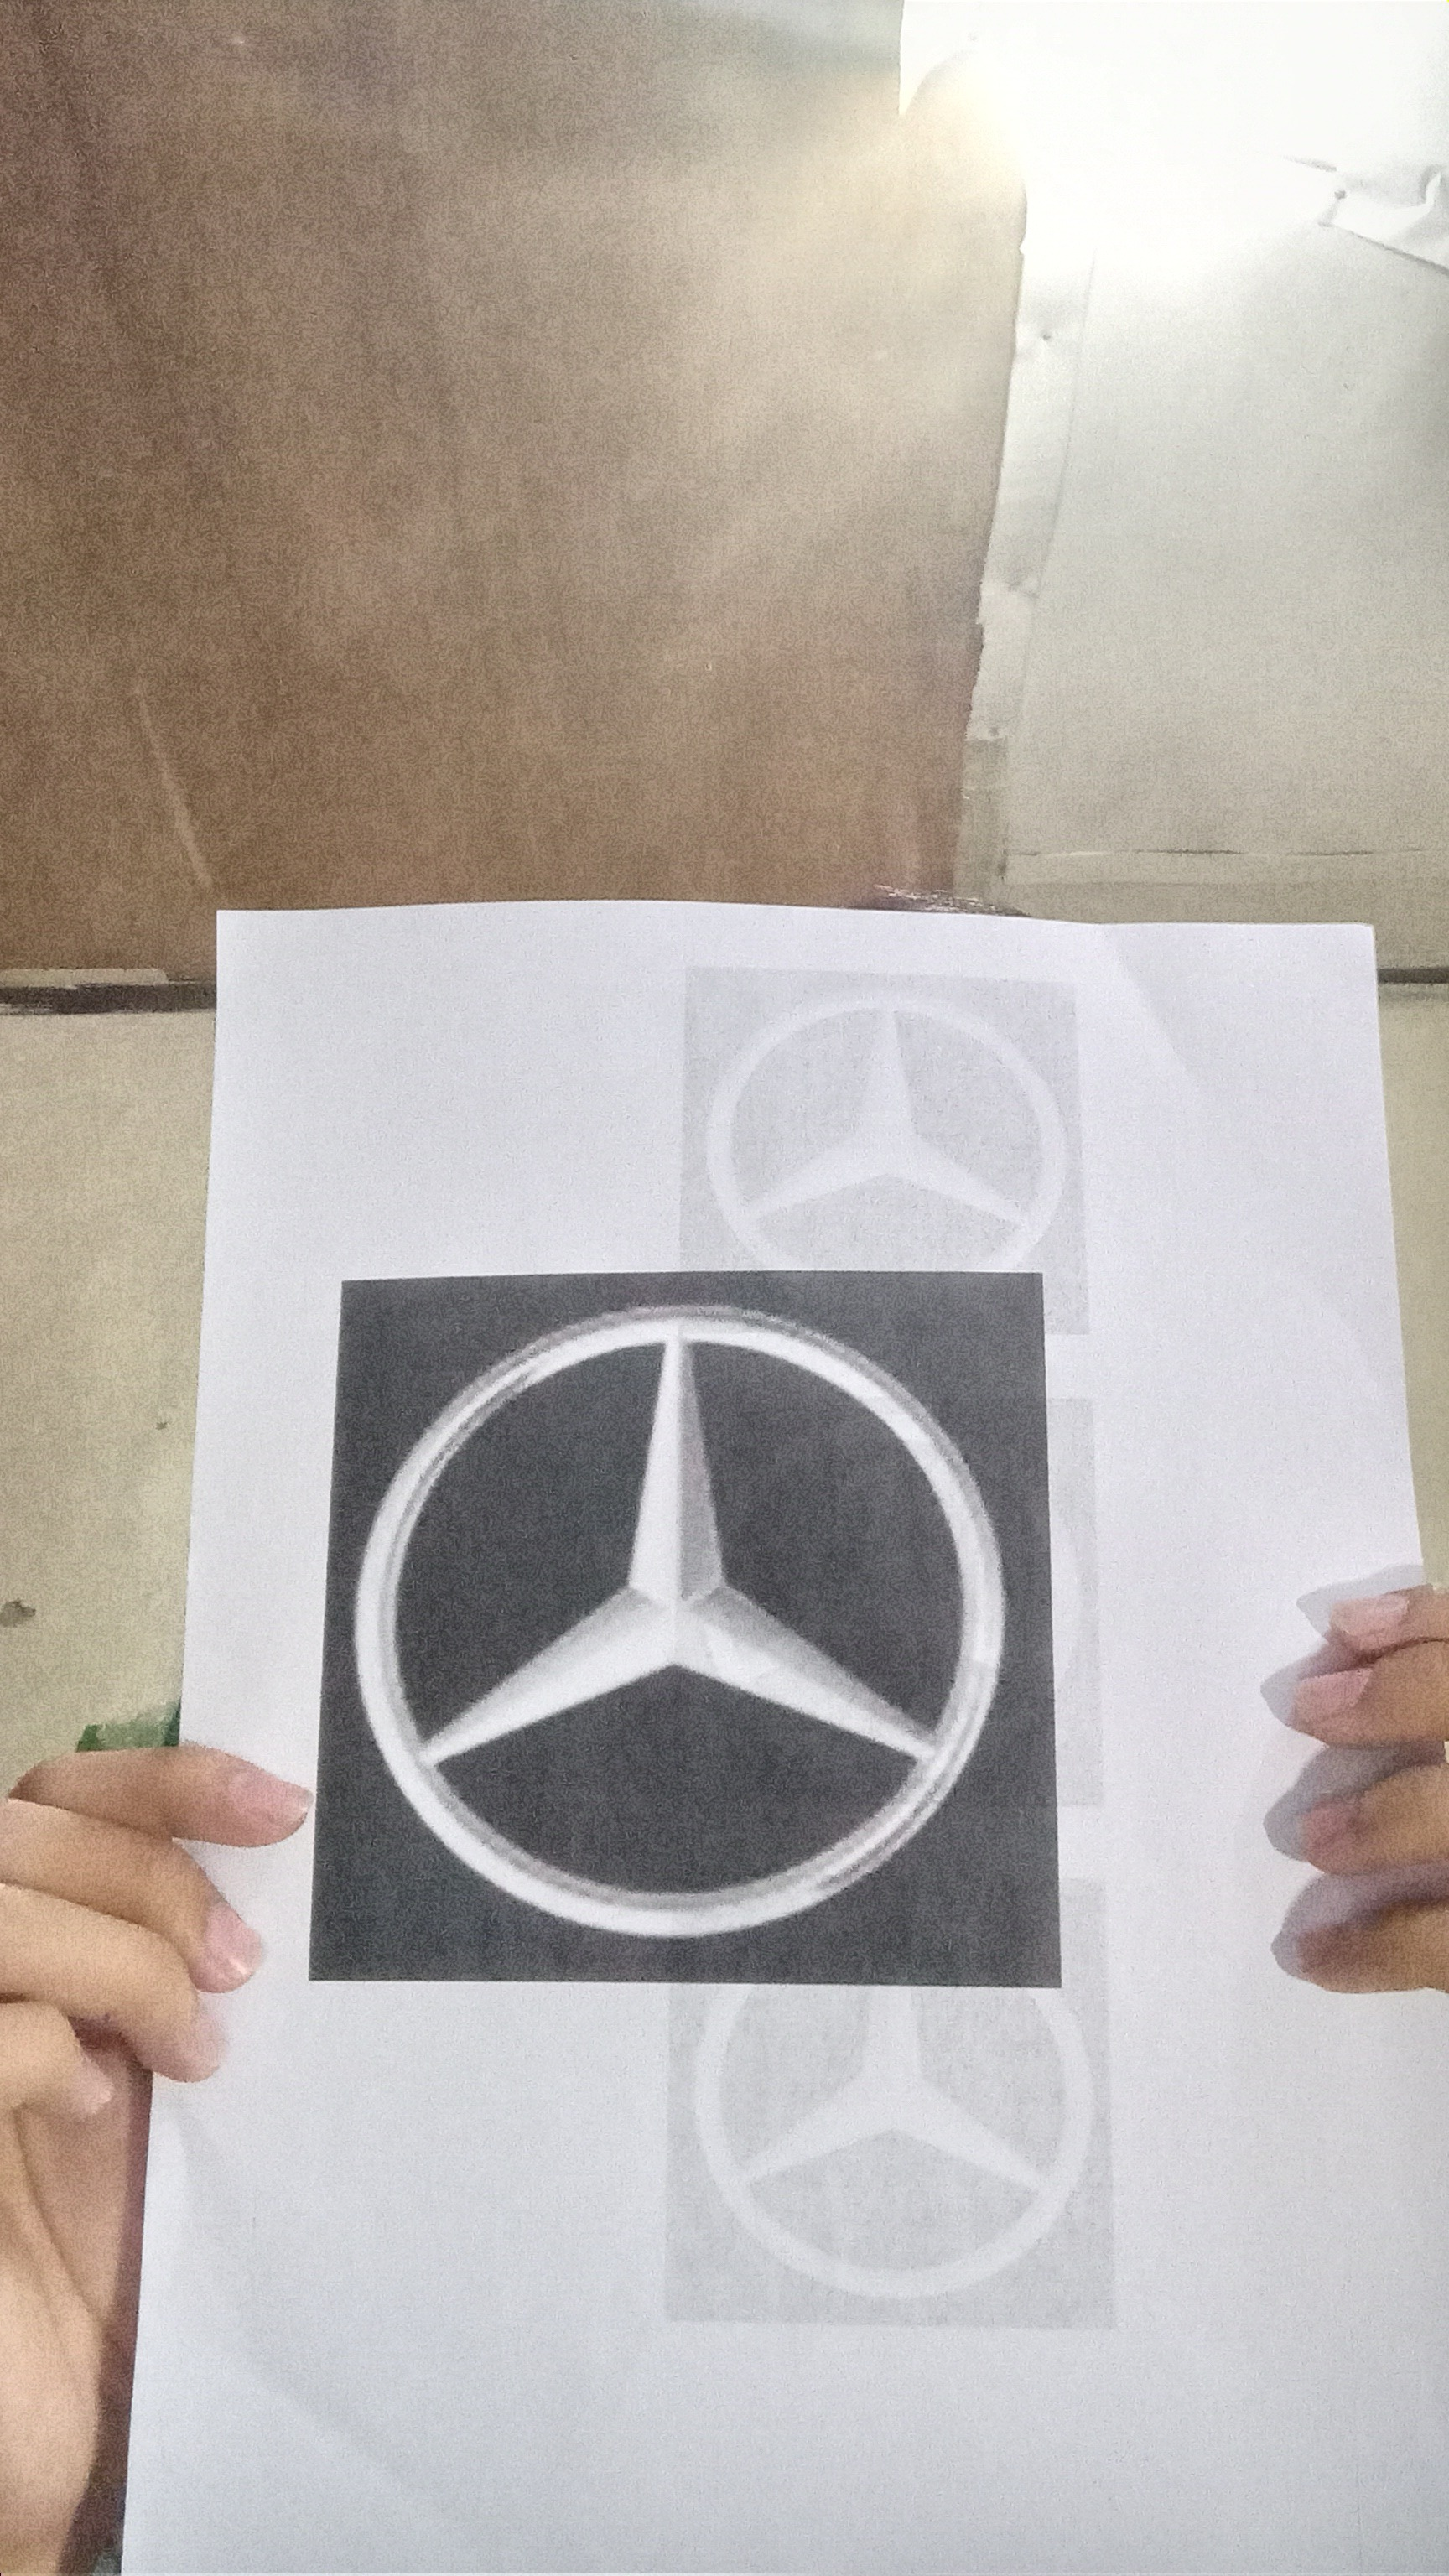Mercedes: (349, 1283, 1033, 1962)
